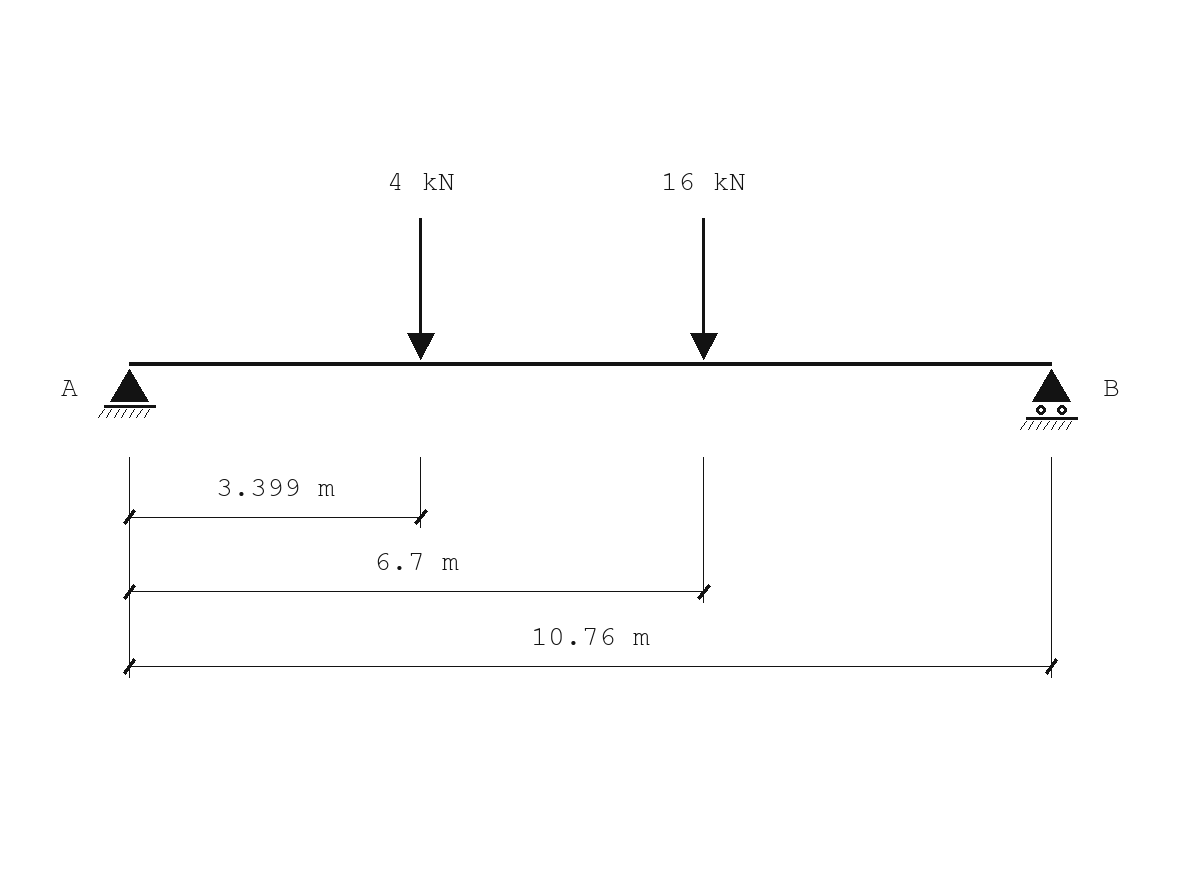pin_support: (98, 369, 156, 418)
point_load: (407, 218, 435, 360), (690, 218, 718, 360)
roller_support: (1020, 369, 1078, 430)
